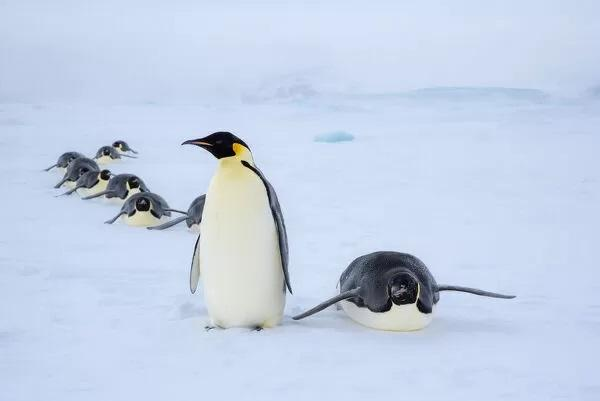emporer: (176, 122, 304, 340), (311, 238, 514, 339)
